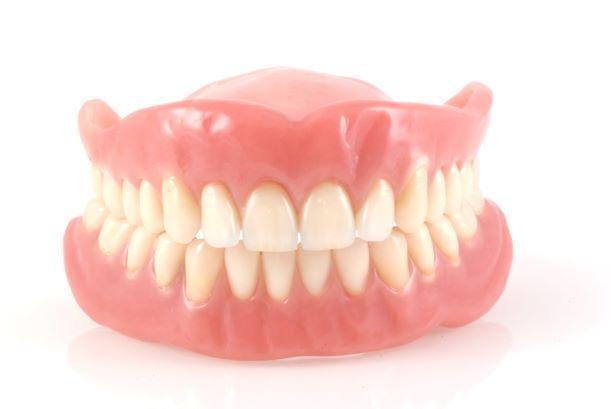normal: (241, 179, 301, 257), (299, 175, 358, 254), (353, 176, 398, 247), (198, 178, 243, 249), (181, 240, 225, 310), (160, 175, 202, 248), (367, 231, 416, 292), (393, 165, 432, 234), (259, 246, 301, 307), (332, 238, 372, 302), (291, 243, 334, 297), (224, 245, 264, 302), (404, 222, 441, 280), (120, 226, 157, 281), (152, 232, 188, 288), (135, 172, 165, 234), (95, 216, 135, 261), (425, 218, 461, 266), (426, 167, 451, 224), (102, 163, 123, 221), (121, 174, 144, 226), (445, 166, 464, 223), (446, 208, 482, 236), (76, 193, 103, 230), (462, 156, 478, 204), (471, 156, 488, 200), (89, 158, 104, 207), (471, 193, 492, 215)
